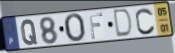8: (39, 15, 60, 45)
C: (135, 7, 157, 36)
D: (113, 8, 134, 39)
F: (87, 12, 105, 40)
O: (63, 12, 87, 43)
Q: (20, 18, 39, 47)
